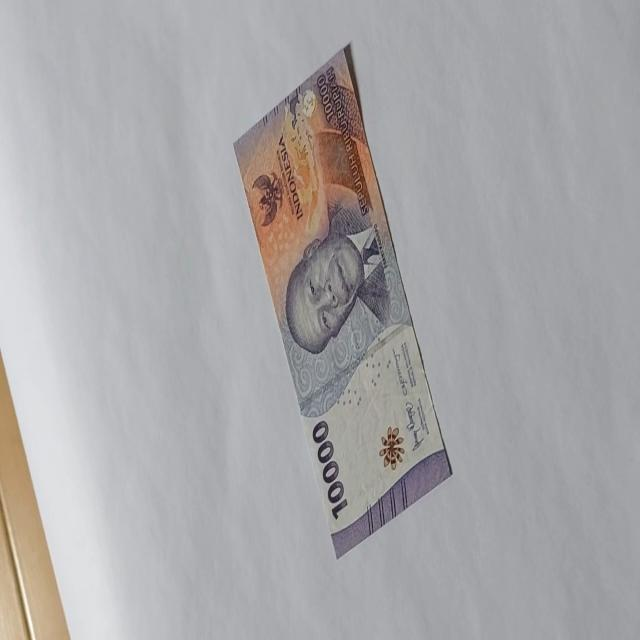sepuluh ribu rupiah: (232, 42, 453, 558), (284, 199, 391, 357)
